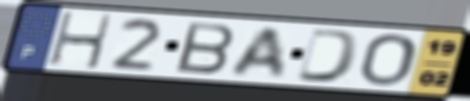2: (110, 17, 165, 71)
A: (227, 25, 289, 79)
B: (174, 20, 238, 76)
D: (293, 26, 364, 85)
H: (47, 11, 115, 71)
O: (357, 32, 419, 88)
